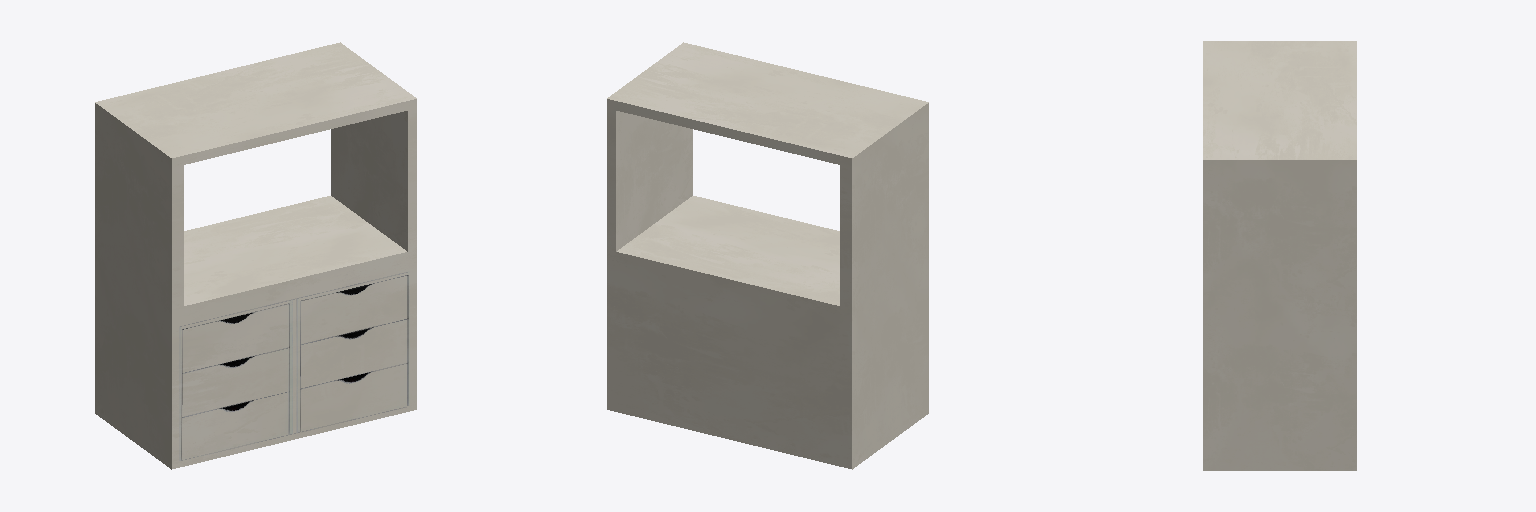
3 renders of one model, left to right at view 1: azimuth 30°, elevation 25°; view 2: azimuth 150°, elevation 25°; view 3: azimuth 270°, elevation 25°, orthographic.
Visible parts, largest first — view 1: case; view 2: case; view 3: case.
Boxes of the visible parts, <box> form: case: <box>95,42,416,469</box>; case: <box>607,42,928,469</box>; case: <box>1203,41,1356,470</box>.
Size of the model in its own units: 1.82 by 2.2 by 0.9869.
Materials: 1 (1 with a texture image).